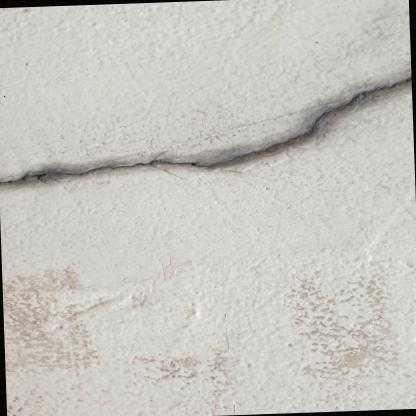crack: (0, 76, 412, 182)
